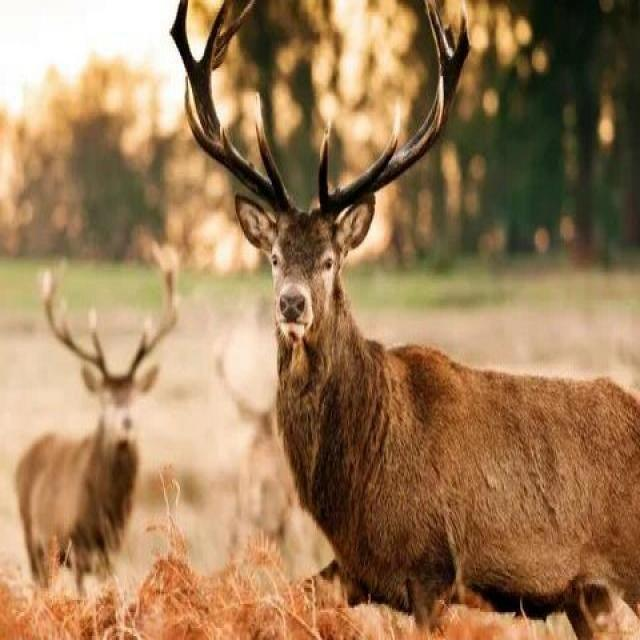deer: (151, 39, 640, 617)
